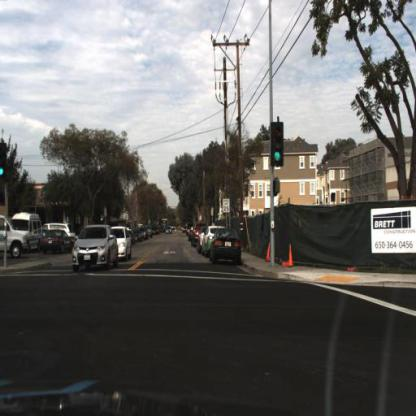car: (71, 223, 119, 274), (209, 228, 243, 266), (1, 215, 28, 261), (11, 211, 44, 246), (40, 229, 74, 255), (113, 225, 134, 261), (201, 227, 216, 260), (202, 222, 217, 255), (198, 226, 206, 255), (165, 226, 174, 237)
trafficLight: (271, 121, 285, 168)
truck: (9, 211, 43, 252), (1, 214, 32, 258), (40, 221, 76, 235)
